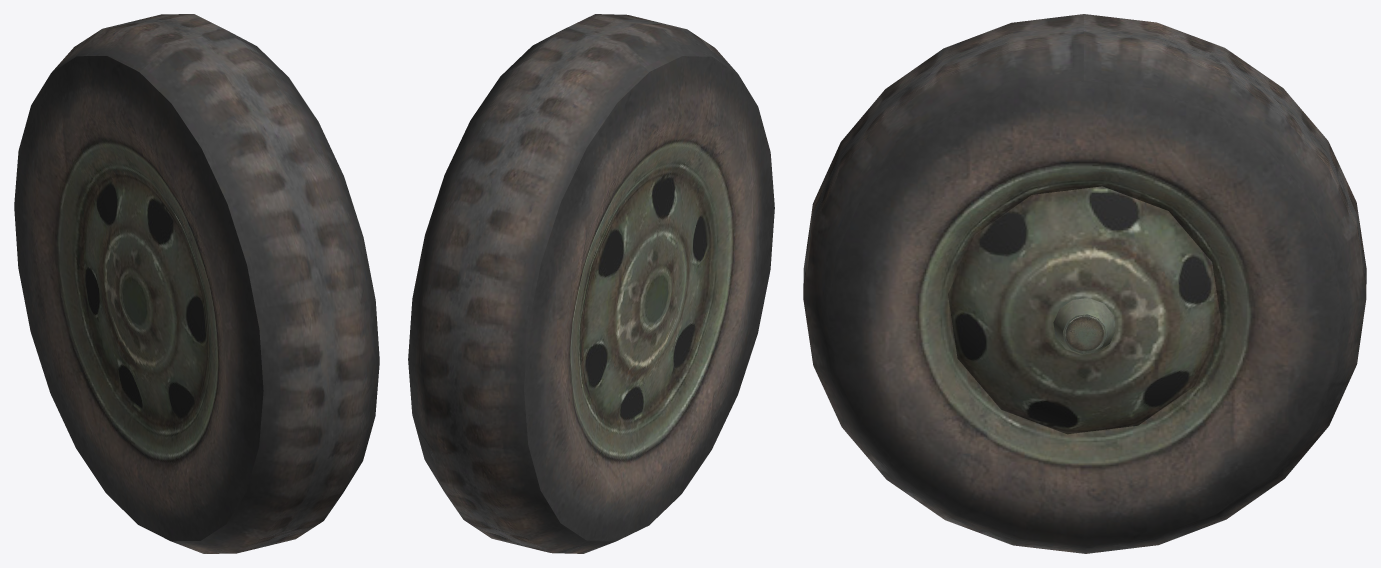
Rendered from front_left_wheel.obj.
3 renders of one model, left to right at view 1: azimuth 30°, elevation 25°; view 2: azimuth 150°, elevation 25°; view 3: azimuth 270°, elevation 25°, orthographic. The views are drawn at different scales.
Parts seen in each view (by area): view 1: armytruck.001; view 2: armytruck.001; view 3: armytruck.001.
Boxes of the visible parts, x1,y1,x2,y2 form: armytruck.001: (14, 14, 379, 553); armytruck.001: (408, 14, 774, 553); armytruck.001: (803, 14, 1366, 553).
Bounding box in the file's own units: 1 × 2.77 × 2.78.
1 material, 1 textured.
